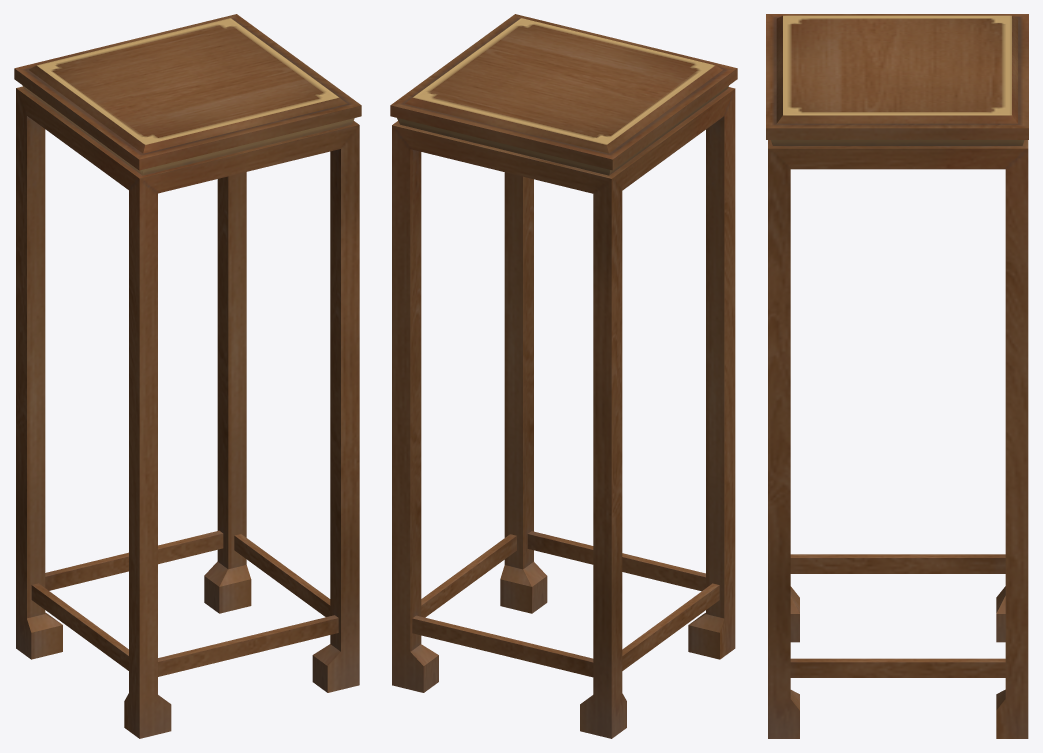
File: Furniture_01_i.FBX
3 renders of one model, left to right at view 1: azimuth 30°, elevation 25°; view 2: azimuth 150°, elevation 25°; view 3: azimuth 270°, elevation 25°, orthographic. The views are drawn at different scales.
Parts seen in each view (by area): view 1: Furniture_01_i; view 2: Furniture_01_i; view 3: Furniture_01_i.
Boxes of the visible parts, <box> form: Furniture_01_i: <box>14,14,361,738</box>; Furniture_01_i: <box>390,14,737,738</box>; Furniture_01_i: <box>766,14,1028,738</box>.
Bounding box in the file's own units: 35.98 × 90.5 × 34.96.
